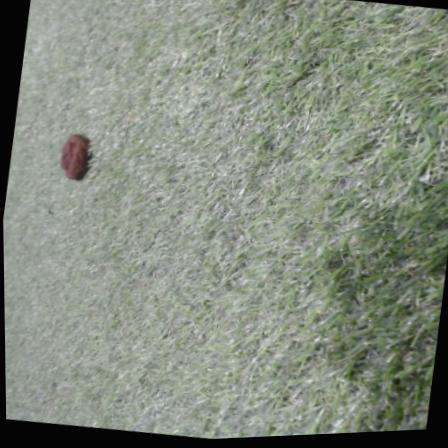dog-poop: (49, 129, 91, 189)
